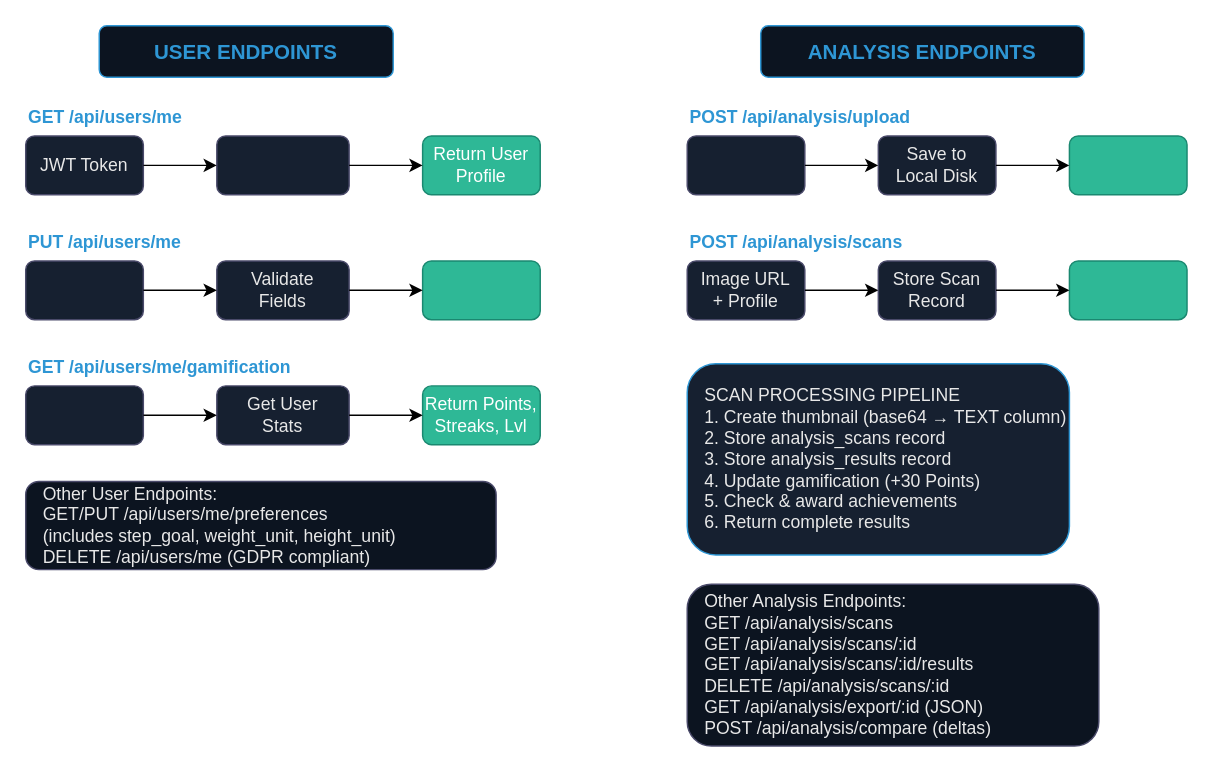
Some shapes in this 1213 by 772 pixel diagram are drawn without their labels. Each missing label, with the centre of its shape:
"Get User ID from Token" goes at (x=282, y=165).
"Image File + Metadata" goes at (x=745, y=165).
"Profile Data" goes at (x=83, y=289).
"Request" goes at (x=83, y=414).
"Return Image URL" goes at (x=1127, y=165).
"Save Results +30 Points" goes at (x=1127, y=289).
"Update User Record" goes at (x=480, y=289).
